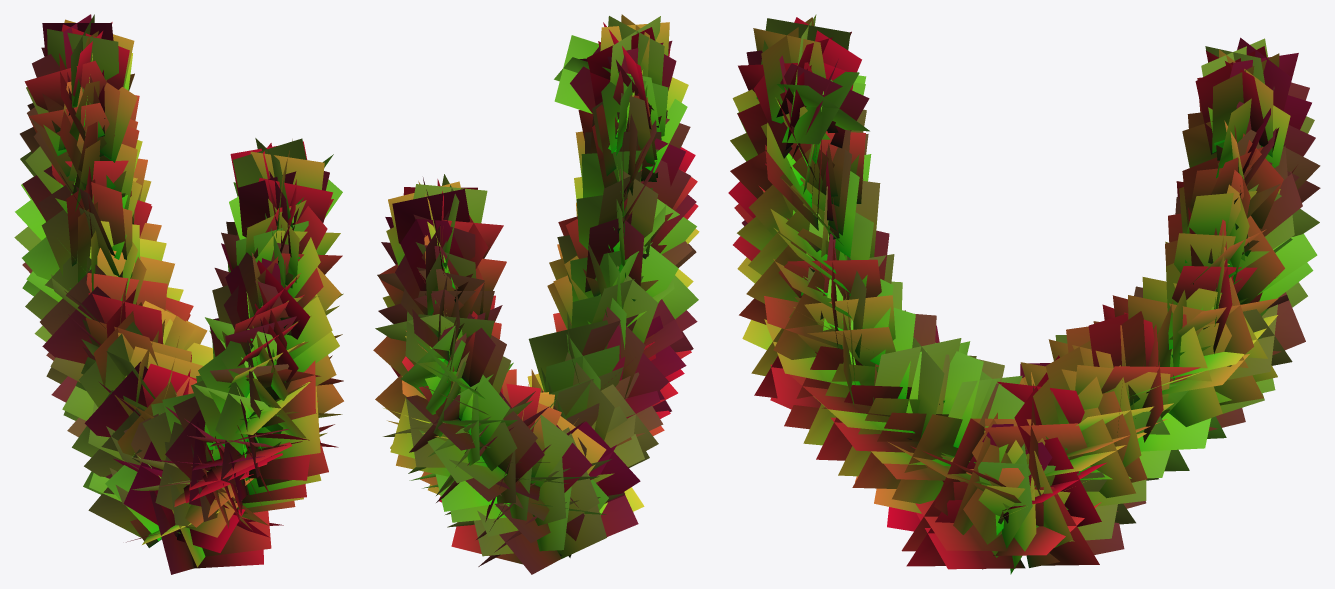
The model's file is URP_P4_Tree_13_LOD_2.fbx.
3 renders of one model, left to right at view 1: azimuth 30°, elevation 25°; view 2: azimuth 150°, elevation 25°; view 3: azimuth 270°, elevation 25°, orthographic. The views are drawn at different scales.
Visible parts, largest first — view 1: Tree_13_LOD_2; view 2: Tree_13_LOD_2; view 3: Tree_13_LOD_2.
Part boxes in pixels (<box>): Tree_13_LOD_2: <box>14,14,343,574</box>; Tree_13_LOD_2: <box>373,14,699,574</box>; Tree_13_LOD_2: <box>728,14,1320,574</box>.
Size of the model in its own units: 211 by 603 by 591.
